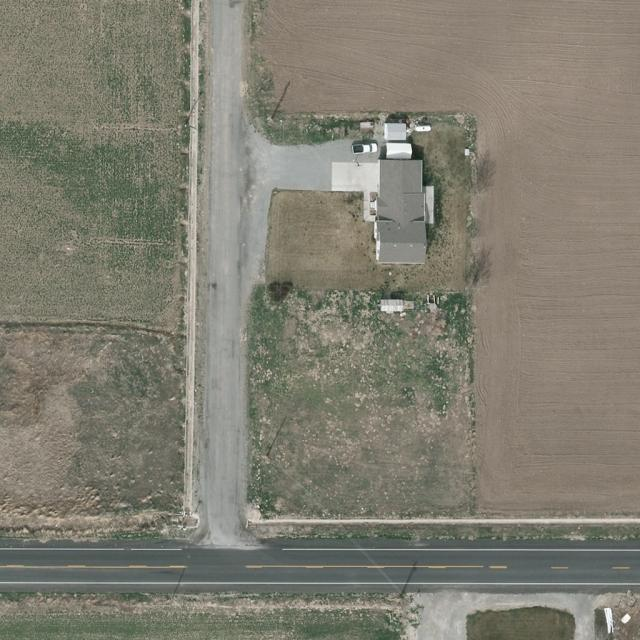vehicle: (352, 144, 377, 154)
